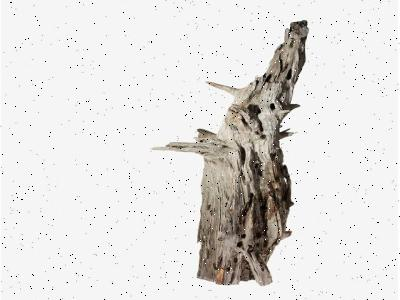Root: (152, 20, 308, 285)
